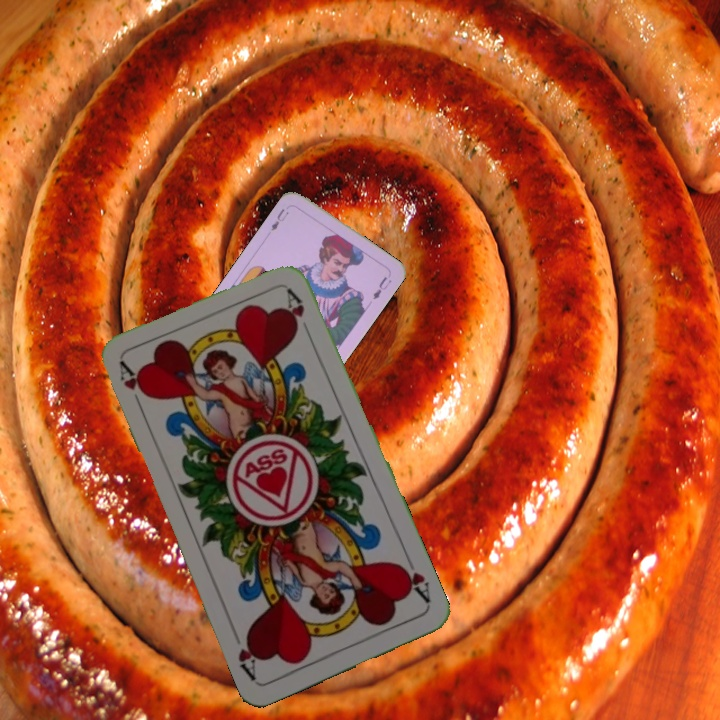EU: (267, 205, 291, 233)
HA: (115, 358, 151, 415), (394, 559, 433, 609)
